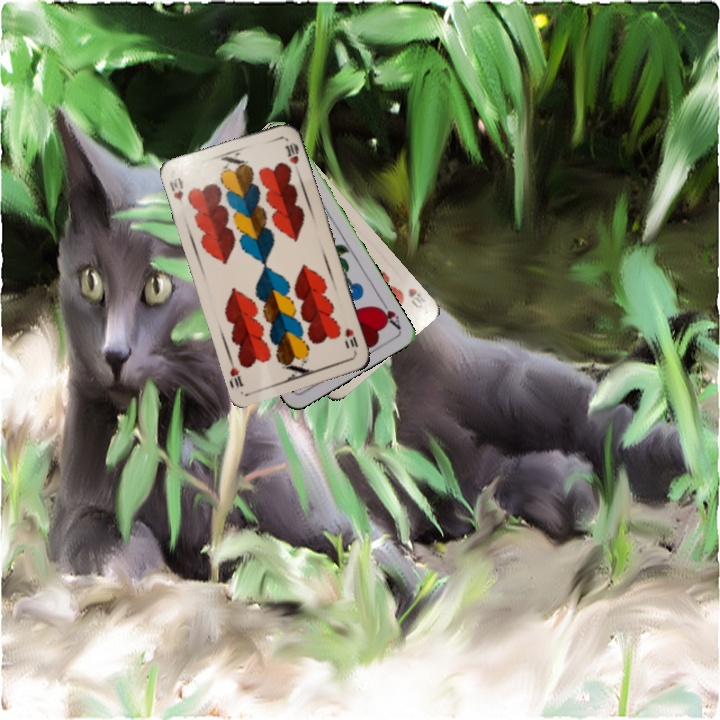H10: (166, 173, 186, 208), (404, 284, 429, 311), (340, 324, 361, 356)
HA: (373, 295, 403, 332)
